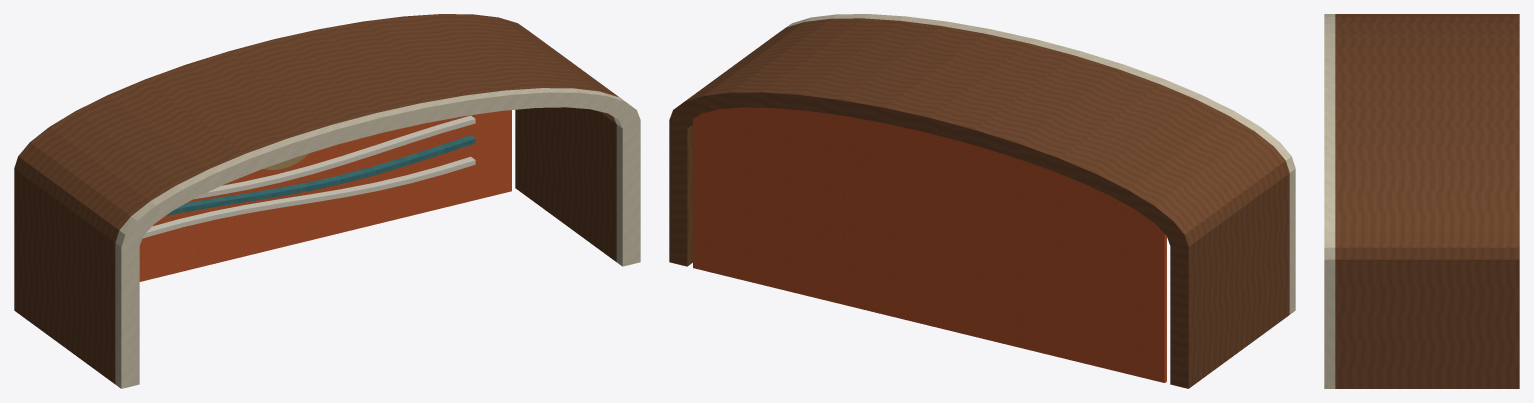
Rendered from AST-AQU-016_pool_focal_end.glb.
3 renders of one model, left to right at view 1: azimuth 30°, elevation 25°; view 2: azimuth 150°, elevation 25°; view 3: azimuth 270°, elevation 25°, orthographic. The views are drawn at different scales.
Parts seen in each view (by area): view 1: GPA_focal_end_BATCH_006_warm_walnut, GPA_focal_end_BATCH_015_warm_walnut, GPA_focal_end_BATCH_013_retail_terracotta_enamel, GPA_focal_end_BATCH_003_warm_walnut, GPA_focal_end_BATCH_010_warm_walnut, GPA_focal_end_BATCH_014_warm_stone, GPA_focal_end_BATCH_005_warm_stone, GPA_focal_end_BATCH_008_ivory_enamel, GPA_focal_end_BATCH_002_warm_stone, GPA_focal_end_BATCH_009_warm_stone, GPA_focal_end_BATCH_007_aquatic_edge_tile, GPA_focal_end_BATCH_001_ivory_enamel (+1 smaller); view 2: GPA_focal_end_BATCH_013_retail_terracotta_enamel, GPA_focal_end_BATCH_006_warm_walnut, GPA_focal_end_BATCH_015_warm_walnut, GPA_focal_end_BATCH_003_warm_walnut, GPA_focal_end_BATCH_010_warm_walnut, GPA_focal_end_BATCH_005_warm_stone, GPA_focal_end_BATCH_014_warm_stone, GPA_focal_end_BATCH_002_warm_stone; view 3: GPA_focal_end_BATCH_015_warm_walnut, GPA_focal_end_BATCH_010_warm_walnut, GPA_focal_end_BATCH_006_warm_walnut, GPA_focal_end_BATCH_014_warm_stone, GPA_focal_end_BATCH_009_warm_stone, GPA_focal_end_BATCH_005_warm_stone.
Part boxes in pixels (x1,y1,x2,y2): GPA_focal_end_BATCH_006_warm_walnut: (14, 51, 329, 242); GPA_focal_end_BATCH_015_warm_walnut: (229, 14, 626, 125); GPA_focal_end_BATCH_013_retail_terracotta_enamel: (139, 110, 511, 281); GPA_focal_end_BATCH_003_warm_walnut: (14, 169, 115, 383); GPA_focal_end_BATCH_010_warm_walnut: (515, 107, 616, 261); GPA_focal_end_BATCH_014_warm_stone: (330, 88, 640, 143); GPA_focal_end_BATCH_005_warm_stone: (115, 125, 338, 247); GPA_focal_end_BATCH_008_ivory_enamel: (244, 125, 475, 212); GPA_focal_end_BATCH_002_warm_stone: (115, 243, 139, 388); GPA_focal_end_BATCH_009_warm_stone: (616, 120, 640, 266); GPA_focal_end_BATCH_007_aquatic_edge_tile: (244, 135, 475, 201); GPA_focal_end_BATCH_001_ivory_enamel: (142, 181, 248, 238); GPA_focal_end_BATCH_013_retail_terracotta_enamel: (693, 107, 1166, 382); GPA_focal_end_BATCH_006_warm_walnut: (971, 55, 1289, 247); GPA_focal_end_BATCH_015_warm_walnut: (669, 18, 1074, 143); GPA_focal_end_BATCH_003_warm_walnut: (1170, 173, 1289, 388); GPA_focal_end_BATCH_010_warm_walnut: (669, 120, 692, 266); GPA_focal_end_BATCH_005_warm_stone: (1075, 51, 1295, 172); GPA_focal_end_BATCH_014_warm_stone: (780, 14, 1080, 55); GPA_focal_end_BATCH_002_warm_stone: (1289, 169, 1295, 314); GPA_focal_end_BATCH_015_warm_walnut: (1335, 64, 1519, 259); GPA_focal_end_BATCH_010_warm_walnut: (1335, 259, 1519, 388); GPA_focal_end_BATCH_006_warm_walnut: (1335, 14, 1519, 64); GPA_focal_end_BATCH_014_warm_stone: (1324, 64, 1335, 259); GPA_focal_end_BATCH_009_warm_stone: (1324, 259, 1335, 388); GPA_focal_end_BATCH_005_warm_stone: (1324, 14, 1335, 64).
Size of the model in its own units: 12 by 4.59 by 4.29.
Materials: 6 (6 with a texture image).
